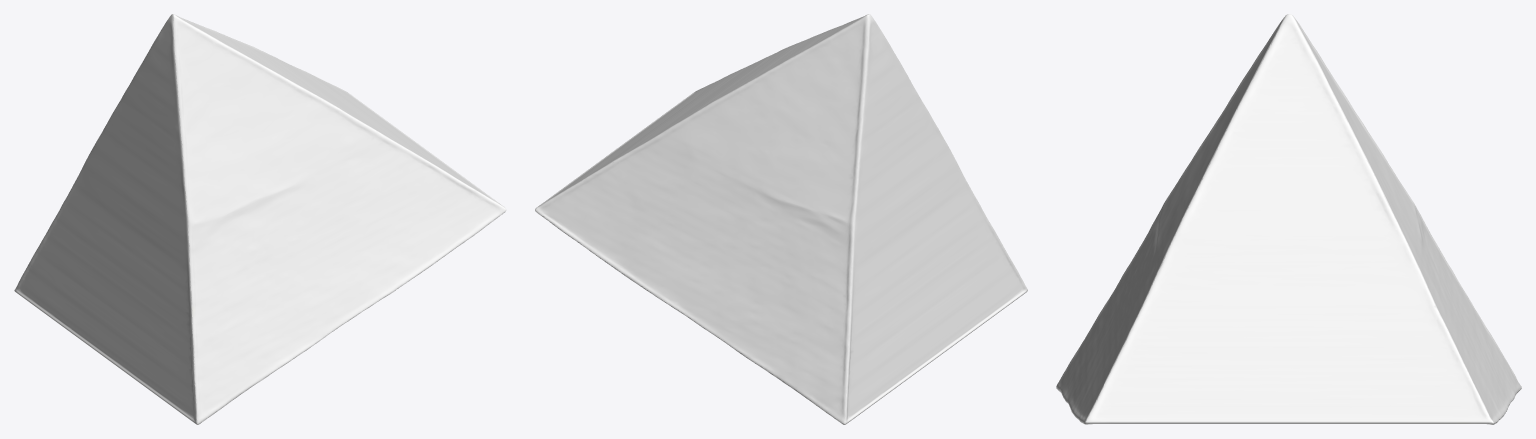
The model's file is prisme.glb.
The picture shows the model from 3 angles, left to right: view 1: azimuth 30°, elevation 25°; view 2: azimuth 150°, elevation 25°; view 3: azimuth 270°, elevation 25°; orthographic projection. The views are drawn at different scales.
Visible parts, largest first — view 1: mvadapter_mesh_uv_pipeline; view 2: mvadapter_mesh_uv_pipeline; view 3: mvadapter_mesh_uv_pipeline.
Boxes of the visible parts, x1,y1,x2,y2 form: mvadapter_mesh_uv_pipeline: [14, 14, 506, 424]; mvadapter_mesh_uv_pipeline: [535, 14, 1027, 424]; mvadapter_mesh_uv_pipeline: [1056, 14, 1521, 424].
Size of the model in its own units: 1.33 by 1.29 by 1.31.
1 material, 1 textured.
